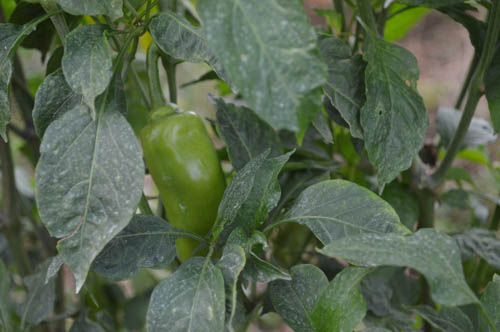ChiliPepper: (144, 115, 228, 256)
